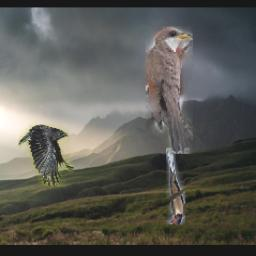Crow: (18, 125, 74, 187)
Cuckoo: (146, 26, 193, 154)
Swallow: (166, 148, 185, 225)
